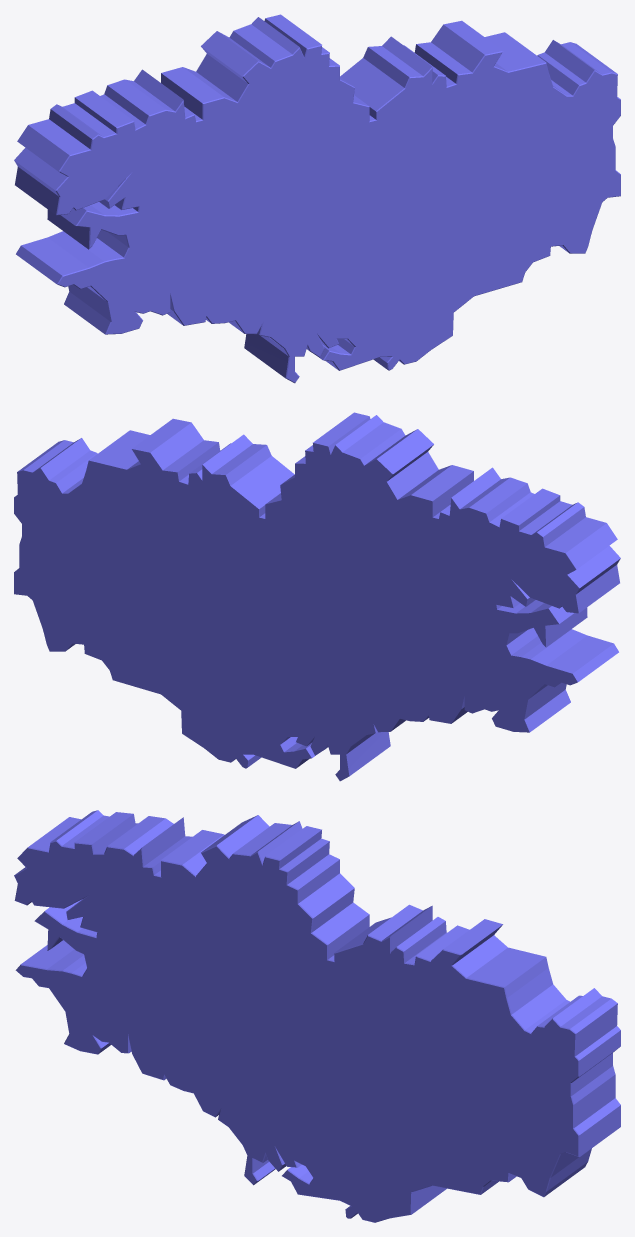
File: Bretagne.glb
3 renders of one model, top to bottom at view 1: azimuth 30°, elevation 25°; view 2: azimuth 150°, elevation 25°; view 3: azimuth 330°, elevation 25°, orthographic.
Visible parts, largest first — view 1: Brittany; view 2: Brittany; view 3: Brittany.
Boxes of the visible parts, x1,y1,x2,y2 form: Brittany: (14, 14, 620, 383); Brittany: (14, 412, 620, 781); Brittany: (14, 810, 620, 1222).
Size of the model in its own units: 1 by 0.585 by 0.1283.
